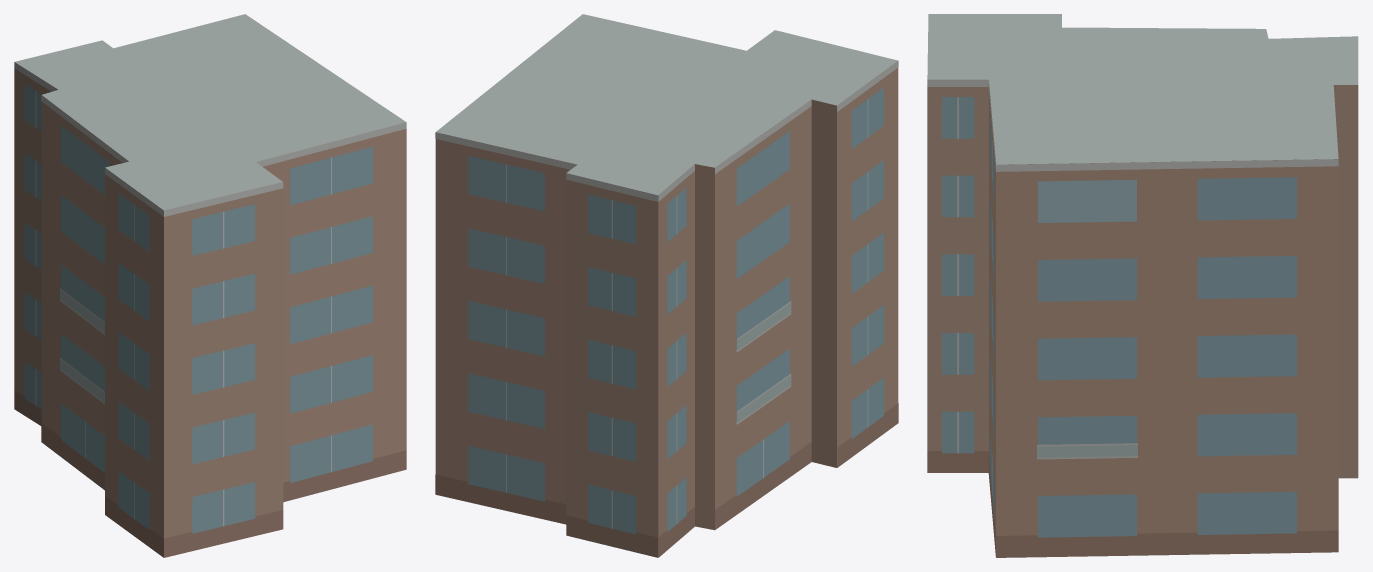
File: survey-upis-32763170.glb
The picture shows the model from 3 angles, left to right: view 1: azimuth 30°, elevation 25°; view 2: azimuth 150°, elevation 25°; view 3: azimuth 270°, elevation 25°; orthographic projection. The views are drawn at different scales.
Parts seen in each view (by area): view 1: survey-upis-32763170.tmp; view 2: survey-upis-32763170.tmp; view 3: survey-upis-32763170.tmp.
Boxes of the visible parts, x1=… form: survey-upis-32763170.tmp: x1=14, y1=14, x2=406, y2=557; survey-upis-32763170.tmp: x1=435, y1=14, x2=898, y2=557; survey-upis-32763170.tmp: x1=927, y1=14, x2=1358, y2=557.
Size of the model in its own units: 10.94 by 13.3 by 13.23.
